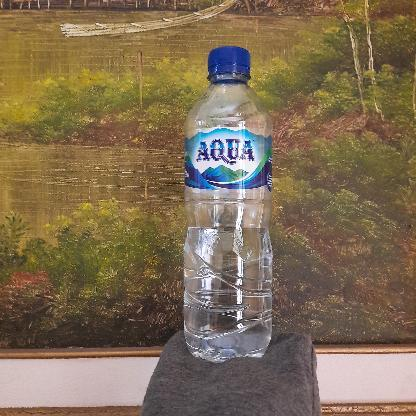Plastic Bottle: (178, 41, 276, 366)
